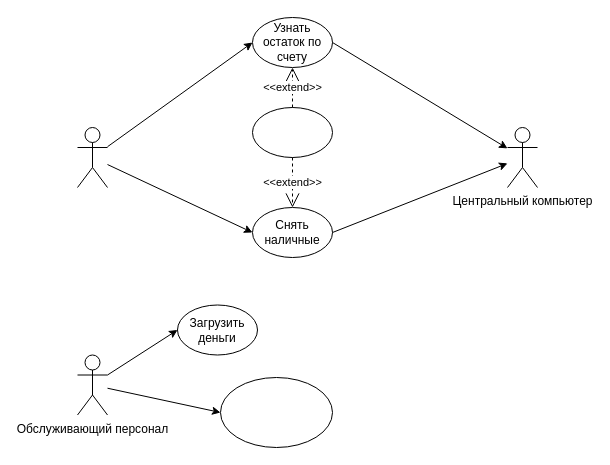
This 610x465 diagram has some shape labels left out. Here are the shapes that lost their labels. From the top down, the centre of each, then its label:
[292,132]: Распечатать справку
[92,157]: Клиент
[276,412]: Забрать конфискованные кредитные карты
